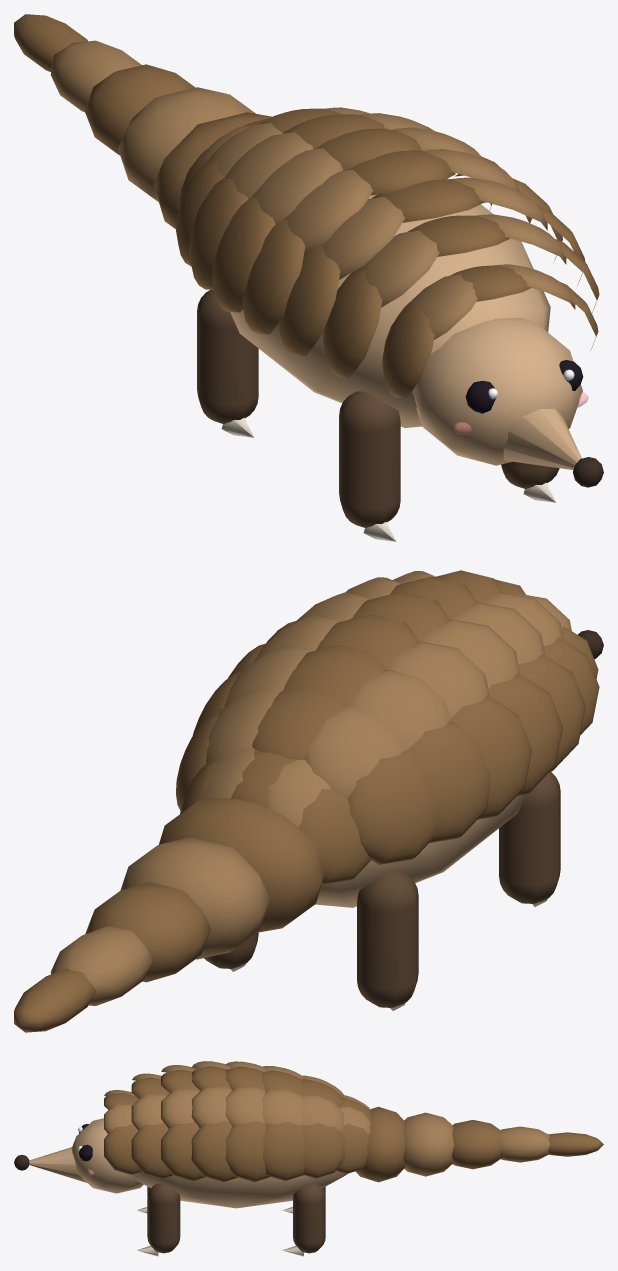
File: pangolin.glb
The picture shows the model from 3 angles, top to bottom: view 1: azimuth 30°, elevation 25°; view 2: azimuth 150°, elevation 25°; view 3: azimuth 270°, elevation 25°; orthographic projection. The views are drawn at different scales.
Visible parts, largest first — view 1: surface_485_prop_0_0, surface_400_prop_-1_0, surface_400_prop_0_0, surface_400_prop_-1_-1, surface_495_prop_0_-1, surface_496_prop_0_-1, surface_493_prop_-1_0, surface_400_prop_0_-1, surface_493_prop_-1_-1, surface_493_prop_0_0, surface_486_prop_0_0, surface_487_prop_-1_0; view 2: surface_400_prop_-1_-1, surface_400_prop_0_-1, surface_495_prop_0_-1, surface_400_prop_-1_0, surface_496_prop_0_-1, surface_493_prop_-1_-1, surface_400_prop_0_0, surface_493_prop_-1_0, surface_485_prop_0_0, surface_493_prop_0_-1; view 3: surface_400_prop_0_-1, surface_400_prop_0_0, surface_485_prop_0_0, surface_495_prop_0_-1, surface_496_prop_0_-1, surface_493_prop_0_0, surface_493_prop_0_-1, surface_400_prop_-1_-1, surface_400_prop_-1_0.
Part boxes in pixels (x1,y1,x2,y2): surface_485_prop_0_0: (230,178,582,469); surface_400_prop_-1_0: (242,169,477,397); surface_400_prop_0_0: (348,149,599,349); surface_400_prop_-1_-1: (176,123,343,312); surface_495_prop_0_-1: (14,14,272,228); surface_496_prop_0_-1: (50,40,255,201); surface_493_prop_-1_0: (339,391,400,527); surface_400_prop_0_-1: (243,107,531,222); surface_493_prop_-1_-1: (197,289,258,423); surface_493_prop_0_0: (501,461,559,488); surface_486_prop_0_0: (573,457,603,487); surface_487_prop_-1_0: (465,381,495,413); surface_400_prop_-1_-1: (266,641,531,884); surface_400_prop_0_-1: (176,614,418,813); surface_495_prop_0_-1: (14,798,324,1032); surface_400_prop_-1_0: (421,592,599,796); surface_496_prop_0_-1: (50,837,270,1005); surface_493_prop_-1_-1: (357,871,418,1007); surface_400_prop_0_0: (266,570,525,642); surface_493_prop_-1_0: (499,772,560,903); surface_485_prop_0_0: (315,795,525,907); surface_493_prop_0_-1: (204,932,258,968); surface_400_prop_0_-1: (225,1066,370,1182); surface_400_prop_0_0: (104,1066,238,1182); surface_485_prop_0_0: (29,1118,347,1208); surface_495_prop_0_-1: (355,1106,603,1182); surface_496_prop_0_-1: (403,1112,549,1176); surface_493_prop_0_0: (147,1183,180,1253); surface_493_prop_0_-1: (293,1183,325,1253); surface_400_prop_-1_-1: (225,1061,370,1110); surface_400_prop_-1_0: (104,1061,230,1095).
Bounding box in the file's own units: 0.4857 × 0.502 × 1.62.
